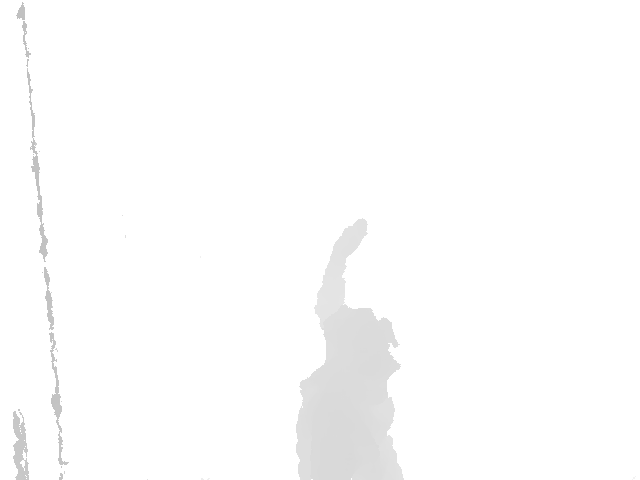hand: (335, 218, 368, 265)
head: (323, 308, 400, 398)
person: (295, 218, 406, 480)
